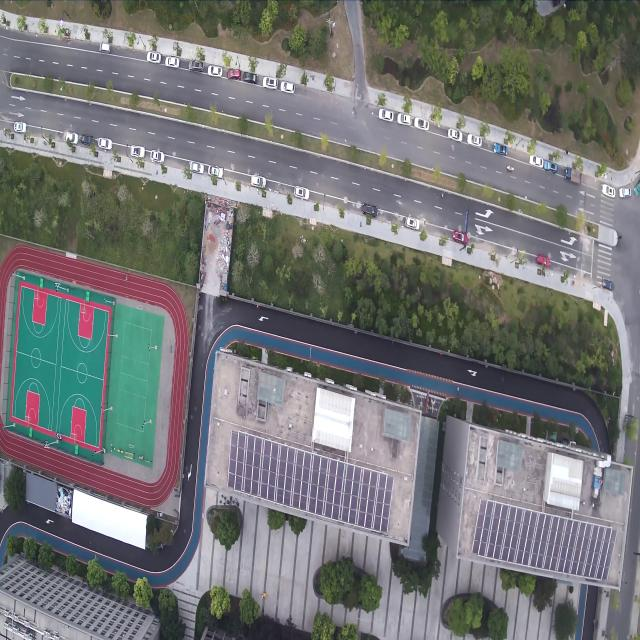drone: (256, 303, 260, 308)
